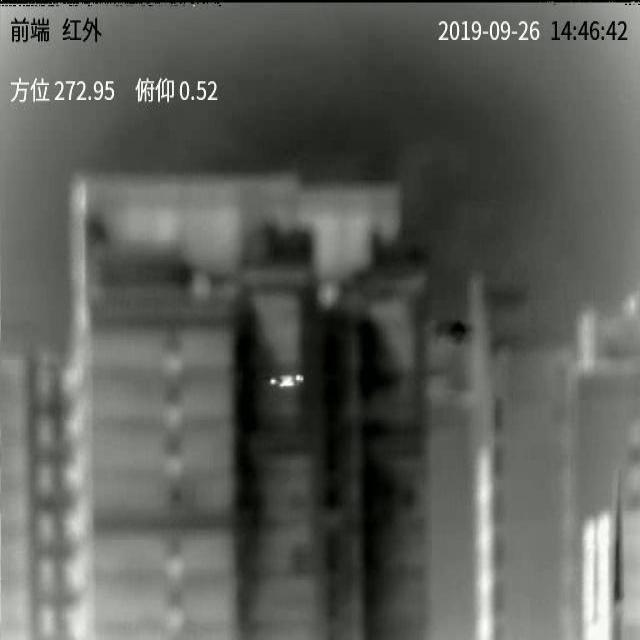drone: (269, 374, 304, 388)
